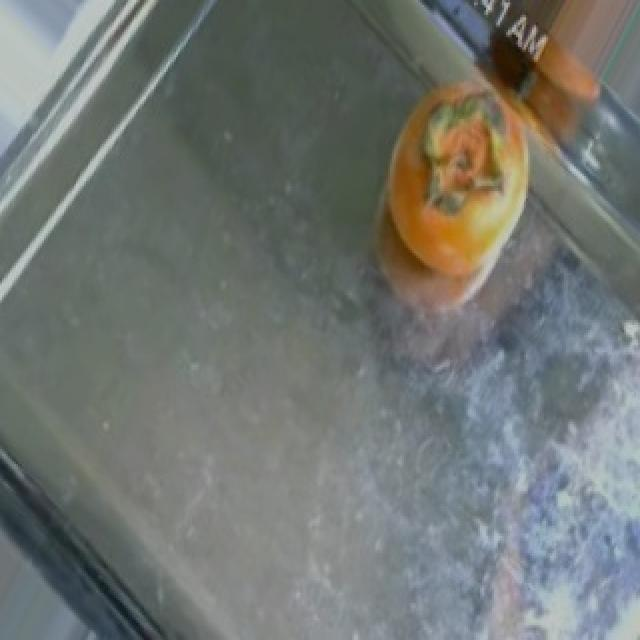Fruit: (362, 57, 558, 382)
